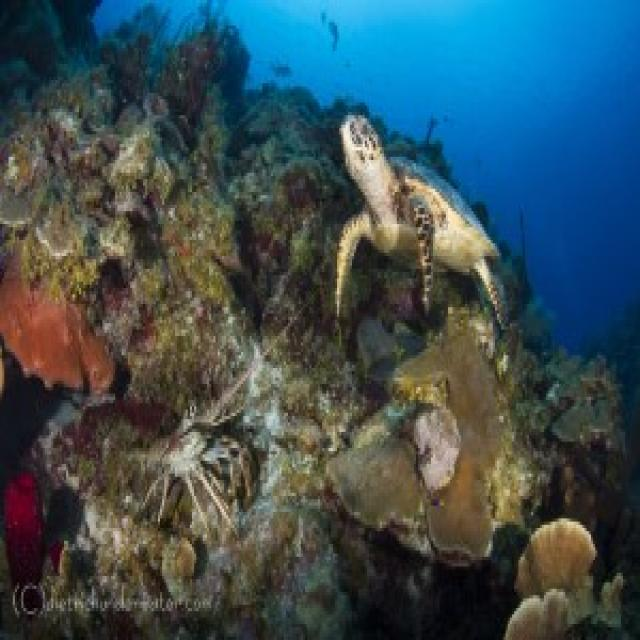lobsters: (94, 366, 310, 569)
